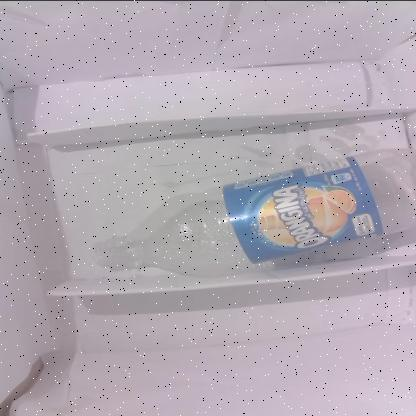Plastic Bottle: (93, 147, 415, 274)
